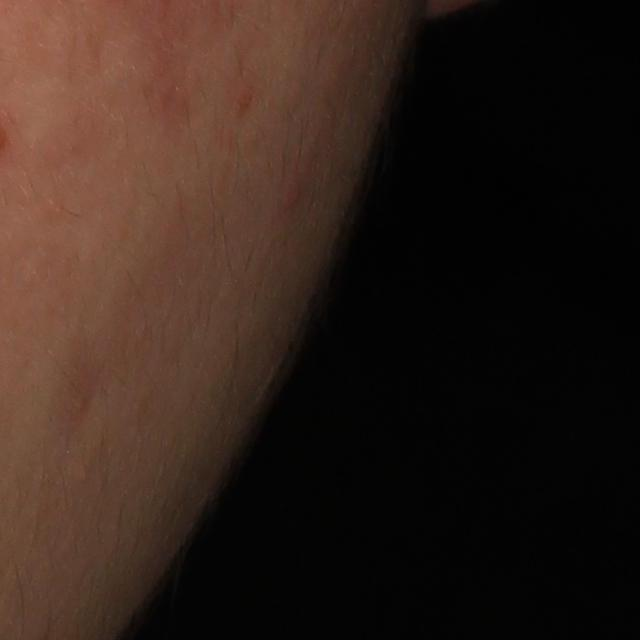papule: (281, 181, 304, 210)
